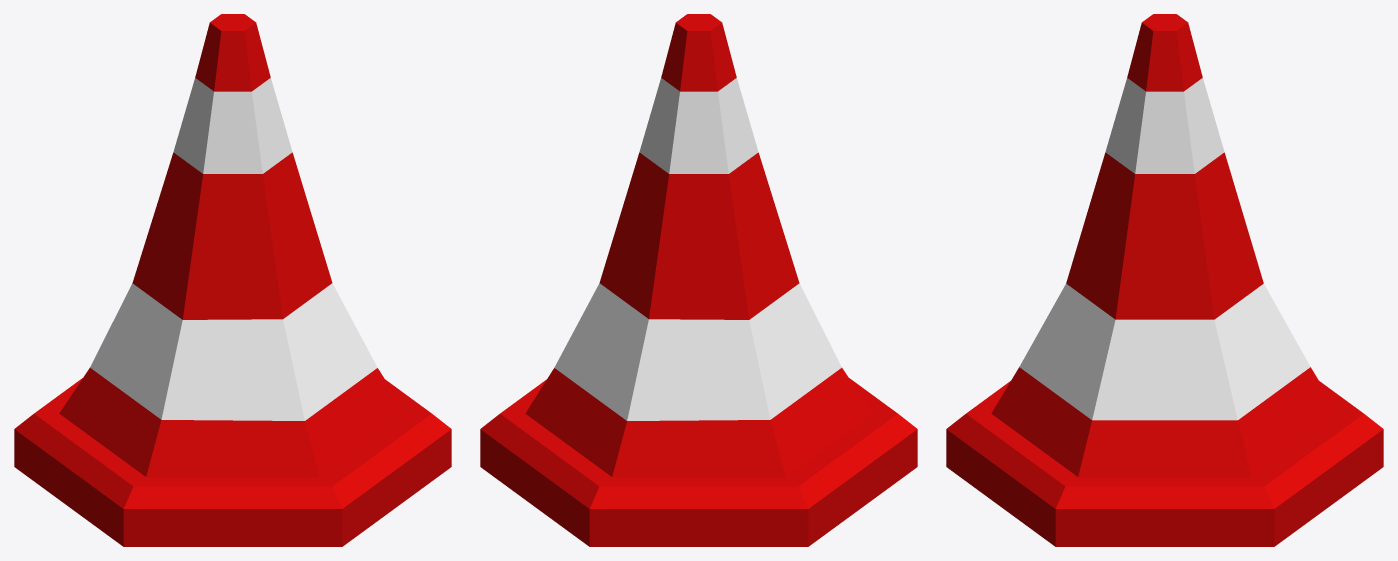
Rendered from duba.fbx.
3 renders of one model, left to right at view 1: azimuth 30°, elevation 25°; view 2: azimuth 150°, elevation 25°; view 3: azimuth 270°, elevation 25°, orthographic.
Parts seen in each view (by area): view 1: Circle; view 2: Circle; view 3: Circle.
Boxes of the visible parts, bbox=[...] form: Circle: bbox=[14, 14, 451, 546]; Circle: bbox=[480, 14, 917, 546]; Circle: bbox=[946, 14, 1383, 546].
Bounding box in the file's own units: 354 × 458 × 409.
